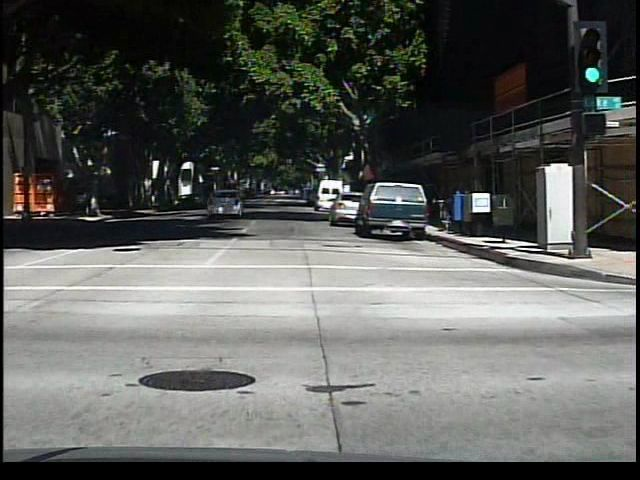person: (75, 183, 91, 218)
